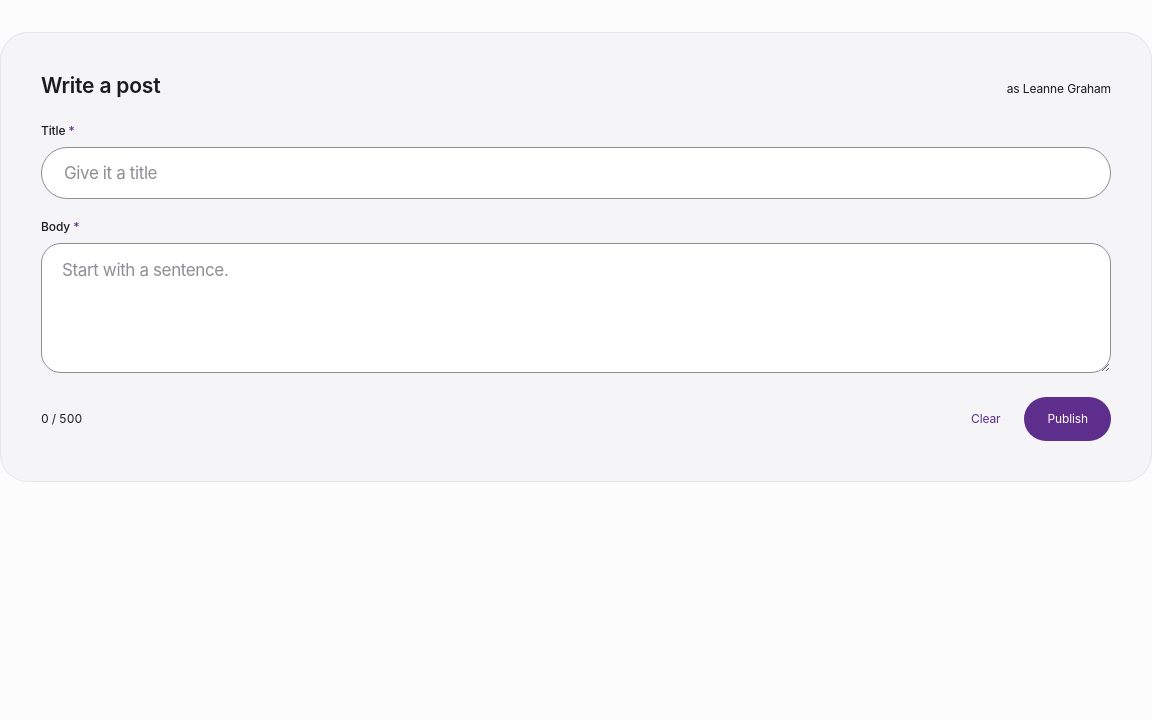
Test: PostComposer › revalidates live after the first failed submission
Click the button "Publish": (1068, 419) [1024, 397, 1111, 441]
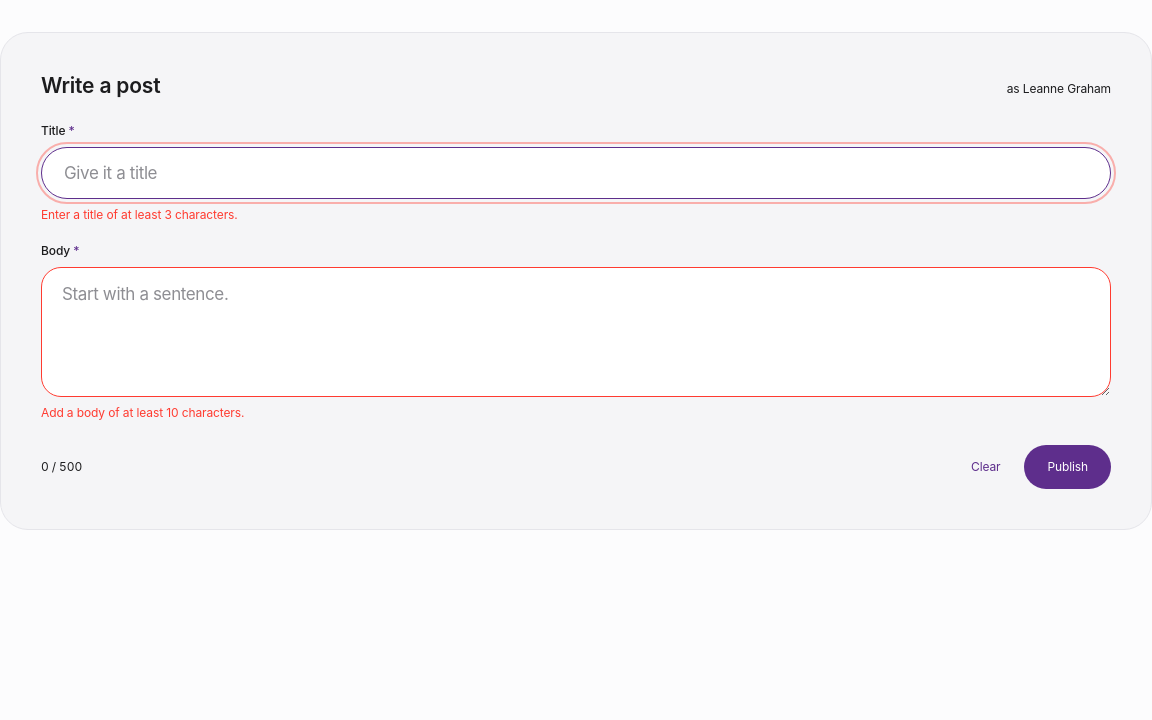
In the field labelled "Title": (576, 173) [41, 147, 1111, 199], type "A local post"
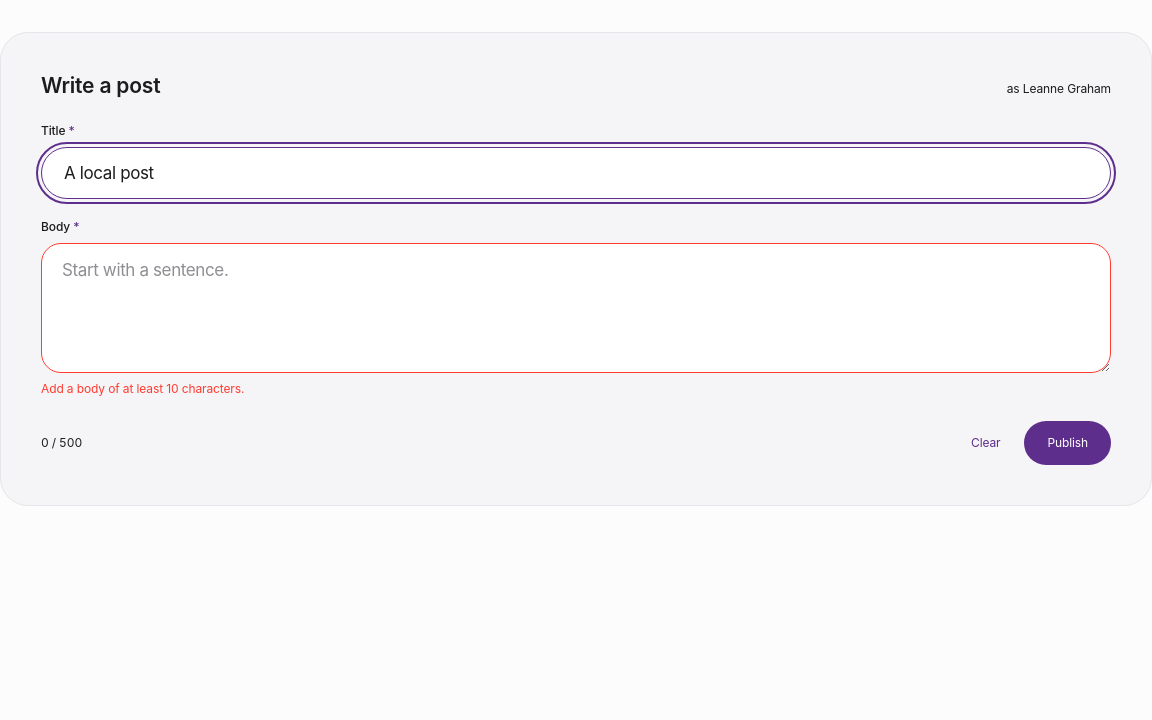
Check: the text "Add a body of at least 10 characters." is shown, box [41, 381, 244, 396]
Check: the text "Enter a title of at least 3 characters." is gone
In the text box labelled "Body": (576, 308) [41, 243, 1111, 373], type "A body long enough"
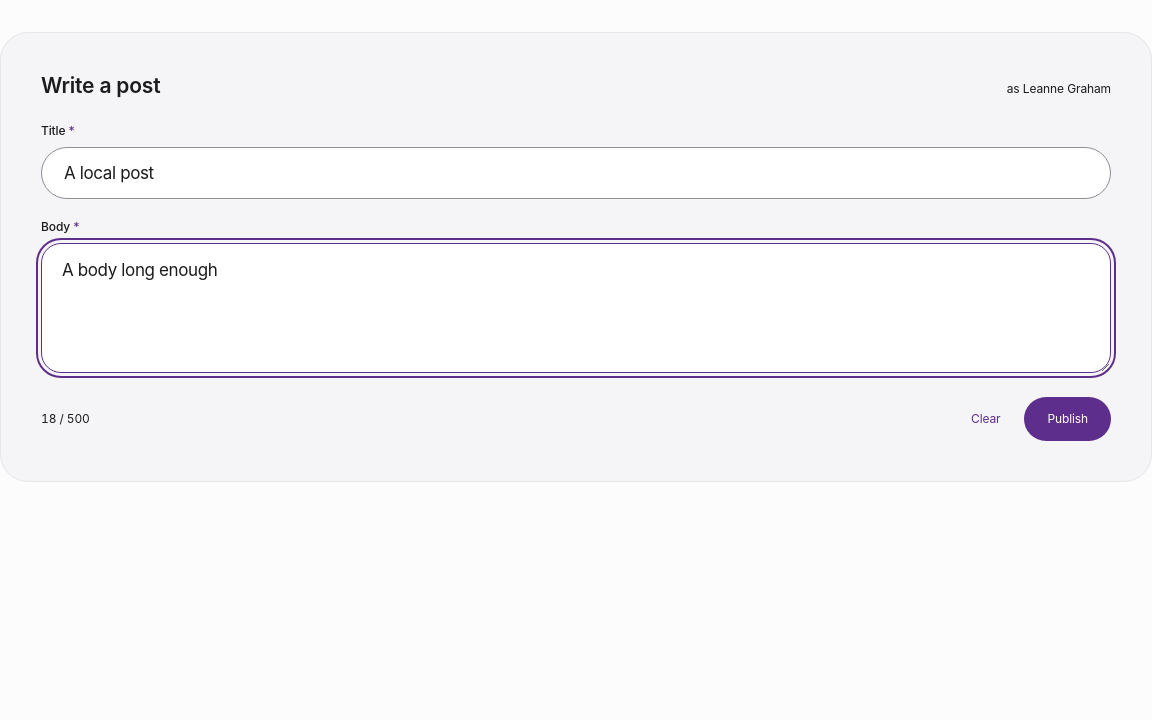
Check: the text "Add a body of at least 10 characters." is gone
